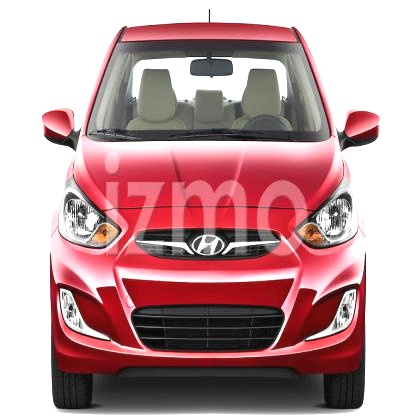Vehicle: (41, 9, 381, 410)
